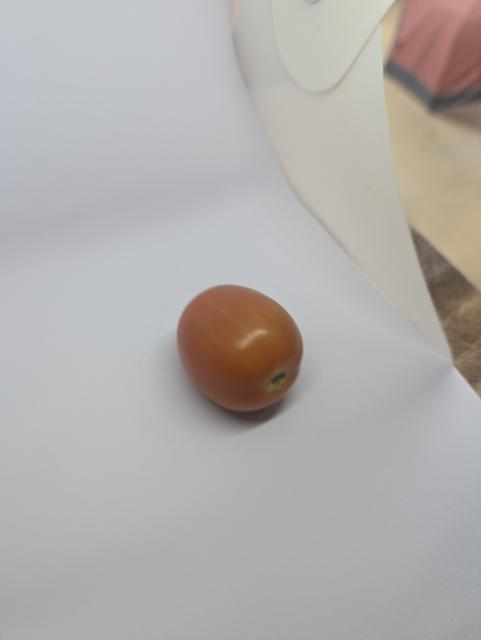turning: (169, 278, 314, 417)
